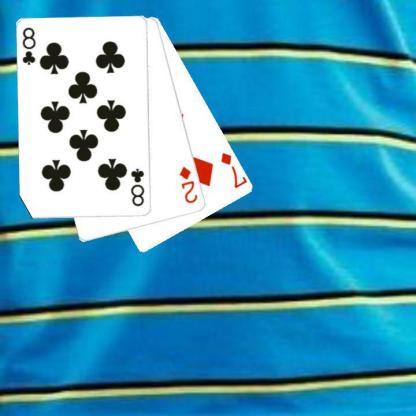2D: (177, 164, 199, 205)
7D: (218, 150, 248, 190)
8C: (128, 166, 146, 208), (20, 25, 38, 66)
